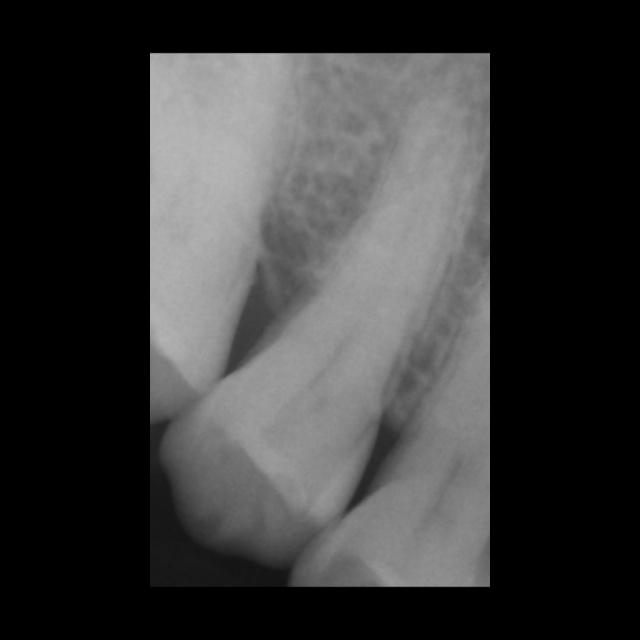tooth: (162, 92, 475, 567)
